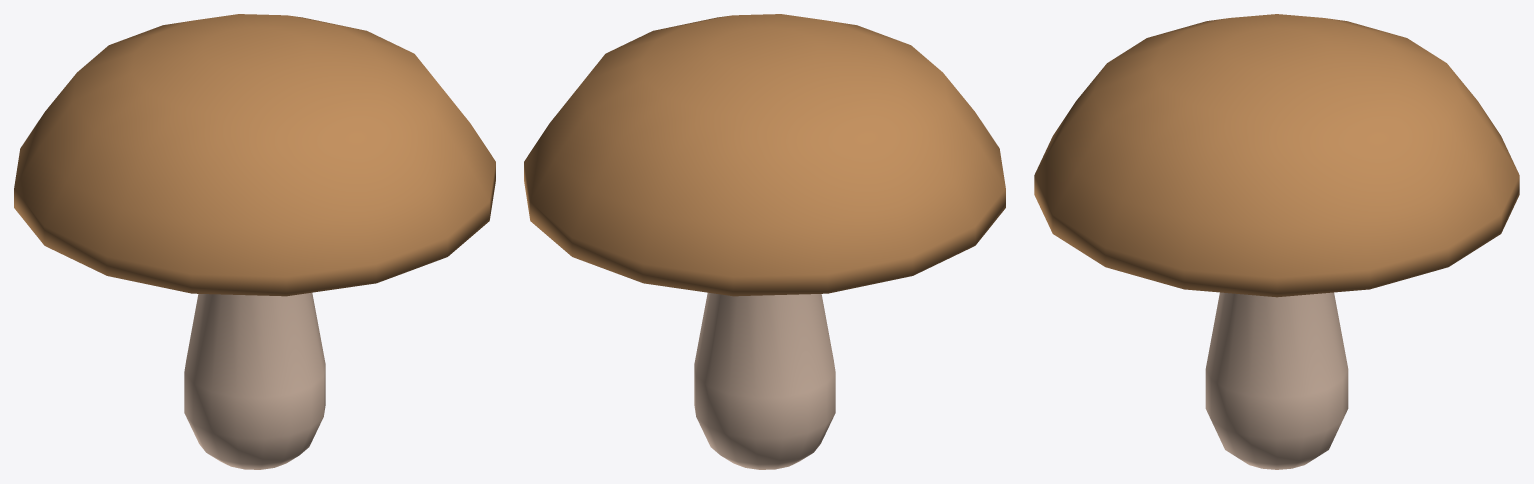
File: V1.MushroomSingle01.fbx
The picture shows the model from 3 angles, left to right: view 1: azimuth 30°, elevation 25°; view 2: azimuth 150°, elevation 25°; view 3: azimuth 270°, elevation 25°; orthographic projection.
Visible parts, largest first — view 1: Cylinder; view 2: Cylinder; view 3: Cylinder.
Part boxes in pixels (bbox=[...]): Cylinder: bbox=[14, 14, 495, 469]; Cylinder: bbox=[524, 14, 1005, 469]; Cylinder: bbox=[1034, 14, 1519, 469].
Size of the model in its own units: 149 by 138 by 149.
